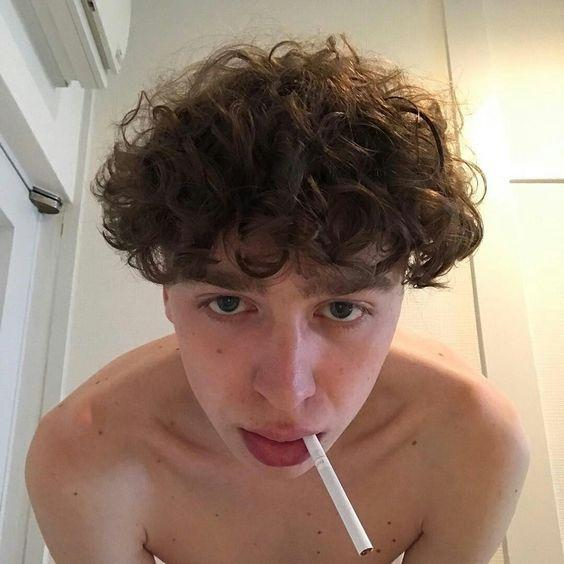cigarette: (303, 434, 373, 556)
